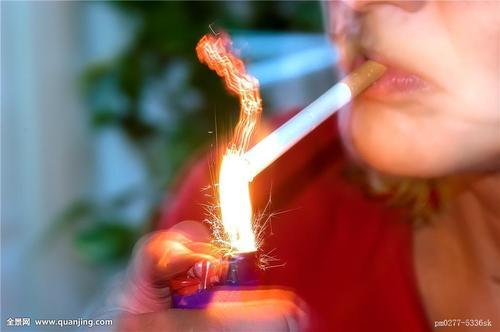smoke: (250, 59, 385, 170)
